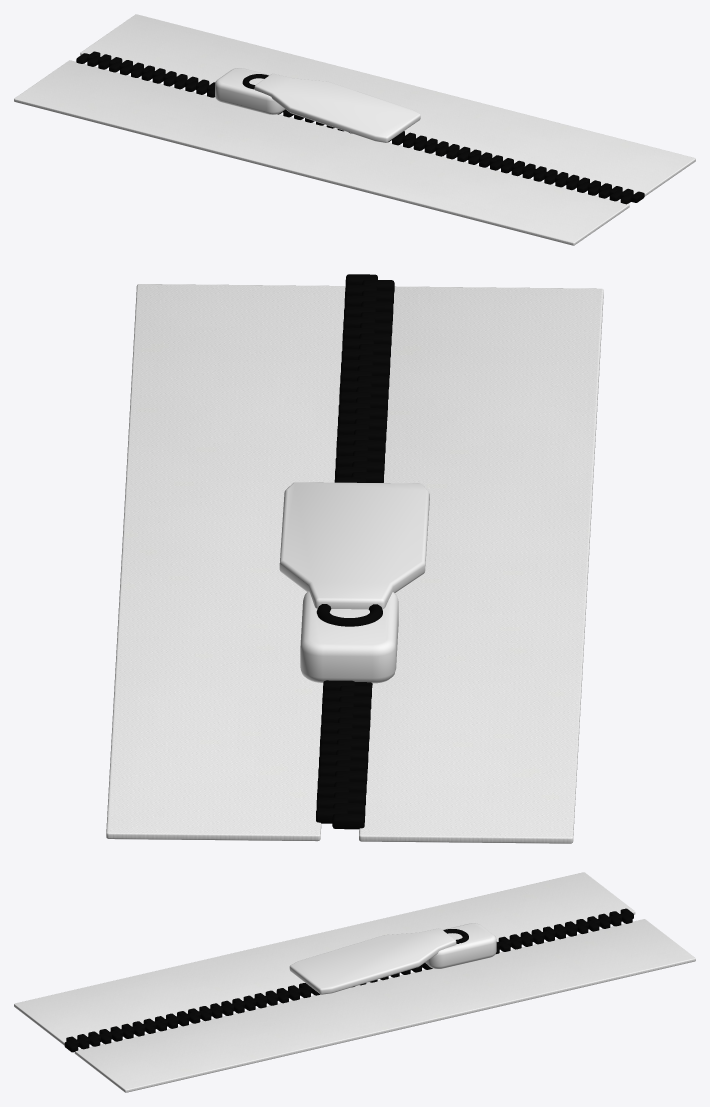
The model's file is zipper.glb.
The picture shows the model from 3 angles, top to bottom: view 1: azimuth 30°, elevation 25°; view 2: azimuth 150°, elevation 25°; view 3: azimuth 270°, elevation 25°; orthographic projection. The views are drawn at different scales.
Visible parts, largest first — view 1: tape-1, tape1, teeth, tab, slider; view 2: tape-1, tape1, teeth, tab, slider; view 3: tape1, tape-1, teeth, tab, slider.
Part boxes in pixels (box(x1,y1,x2,y2)): tape-1: box(14, 60, 629, 245); tape1: box(80, 14, 695, 196); teeth: box(76, 51, 644, 204); tab: box(254, 73, 420, 142); slider: box(215, 68, 285, 114); tape-1: box(359, 286, 603, 843); tape1: box(106, 284, 345, 841); teeth: box(316, 274, 394, 829); tab: box(279, 482, 429, 609); slider: box(300, 591, 398, 683); tape1: box(74, 919, 695, 1092); tape-1: box(14, 872, 635, 1045); teeth: box(64, 908, 633, 1052); tab: box(289, 928, 456, 994); slider: box(425, 923, 496, 968).
Bounding box in the file's own units: 0.1347 × 0.00826 × 0.1781.
7 materials, 7 textured.
